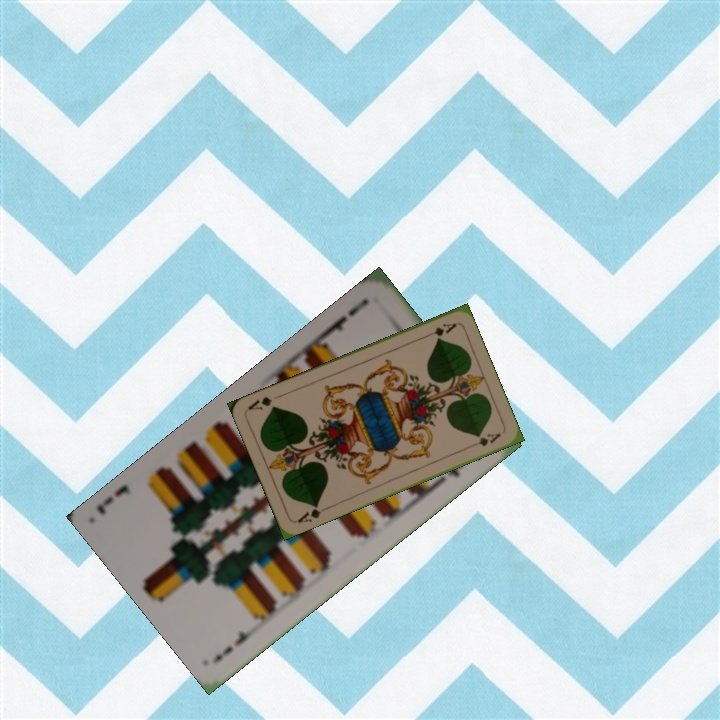E7: (322, 294, 371, 337), (212, 623, 262, 664)
GA: (293, 500, 331, 526), (420, 319, 459, 341)
